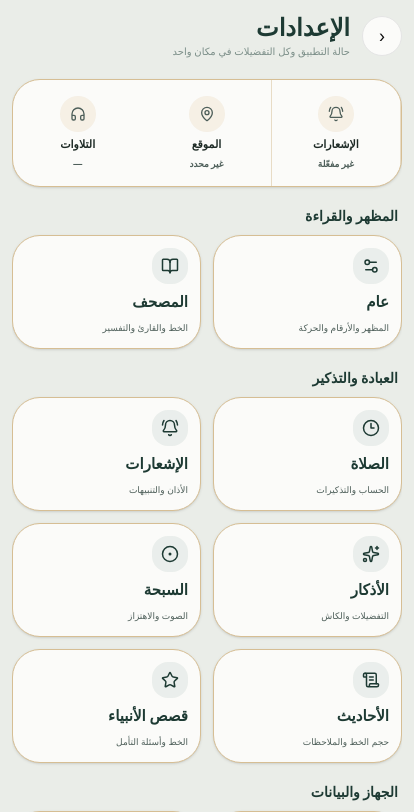
it: SettingsView smoke coverage › keeps prayer notification switches out of the Prayer category
Click the button "الصلاة الحساب والتذكيرات" at [308, 454], box [213,397,402,511]
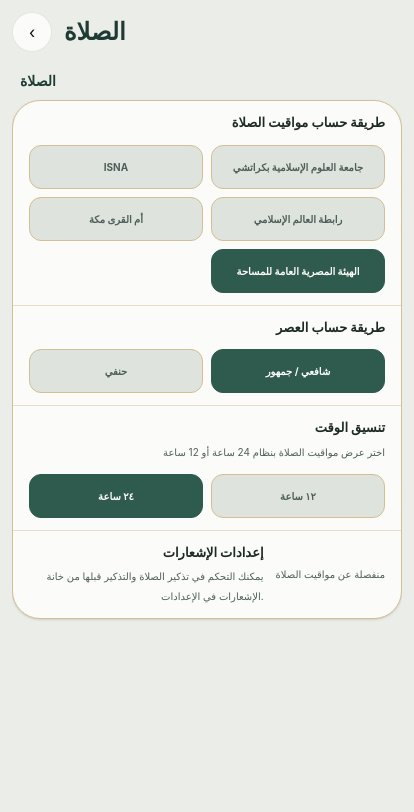
Now the text "الصلاة" is shown, box [64,16,126,48]
Now the button "حنفي" is shown, box [29,349,203,393]
